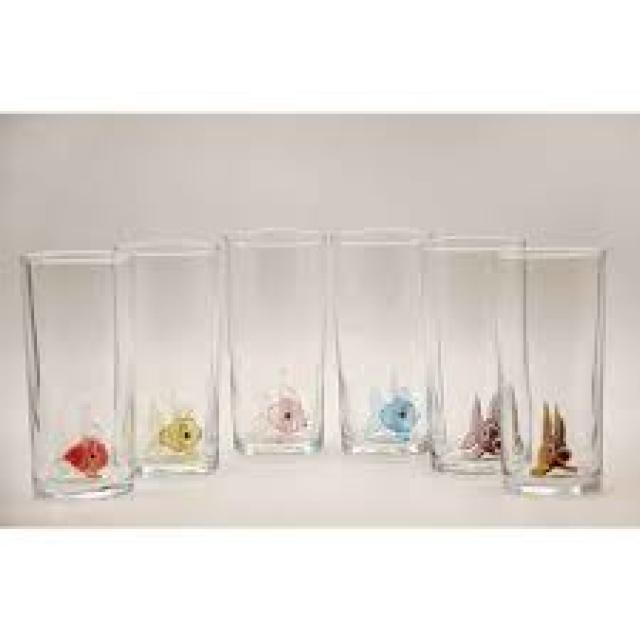Dry: (17, 248, 137, 502), (498, 248, 605, 492), (221, 233, 328, 459), (328, 225, 431, 457)
